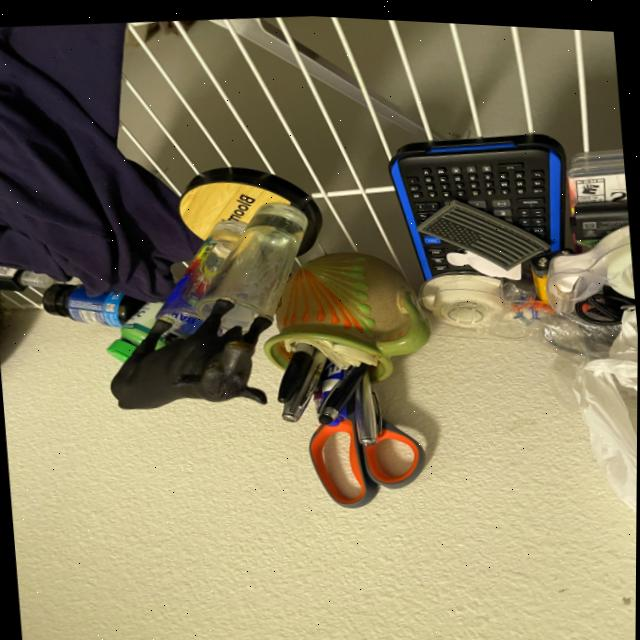cow: (107, 294, 275, 409)
